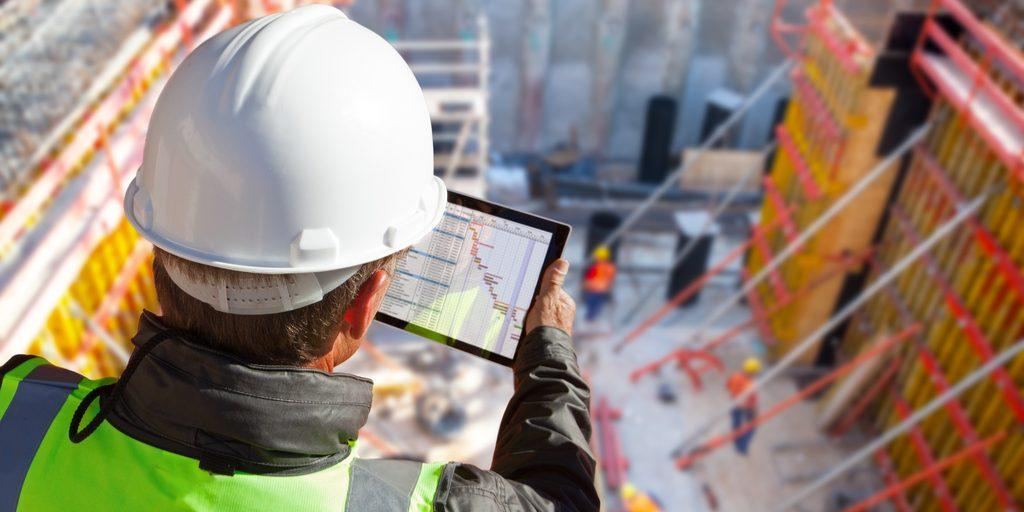helmet: (126, 8, 446, 270)
